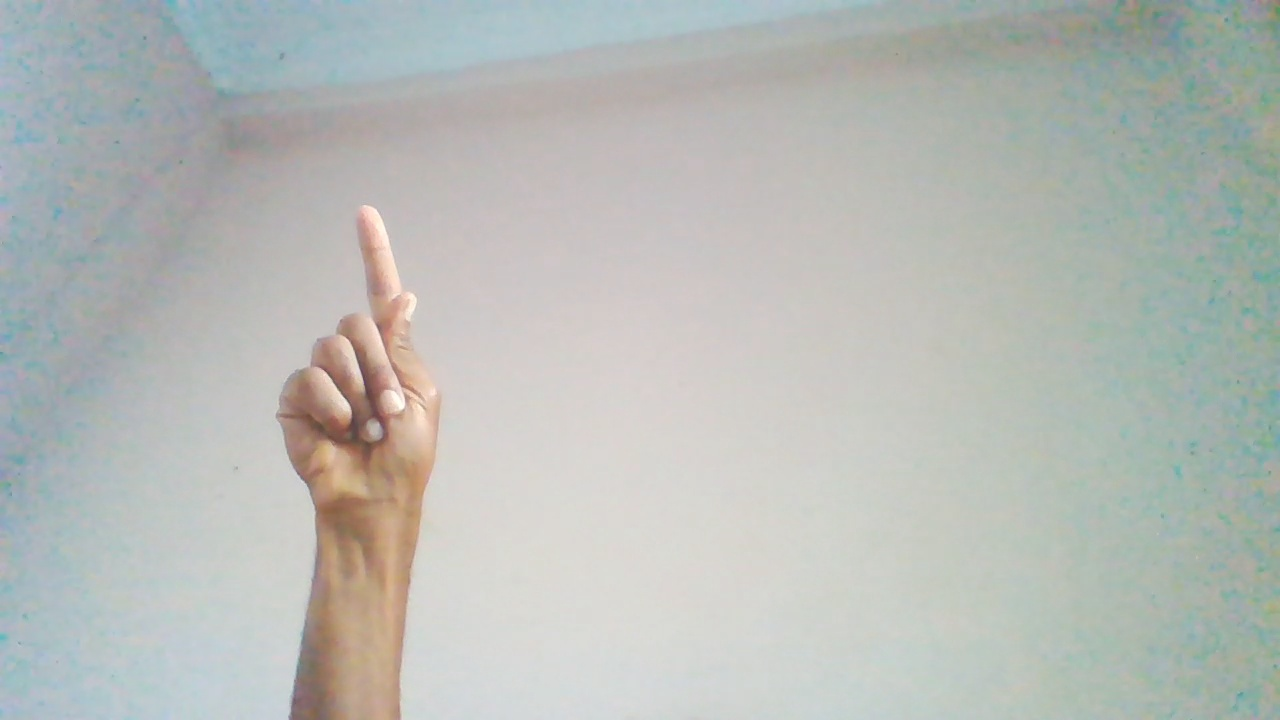ne: (273, 205, 445, 617)
